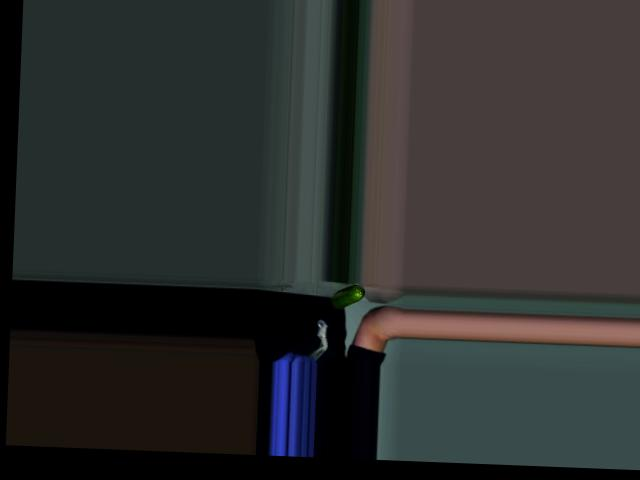cucumber: (330, 283, 365, 309)
